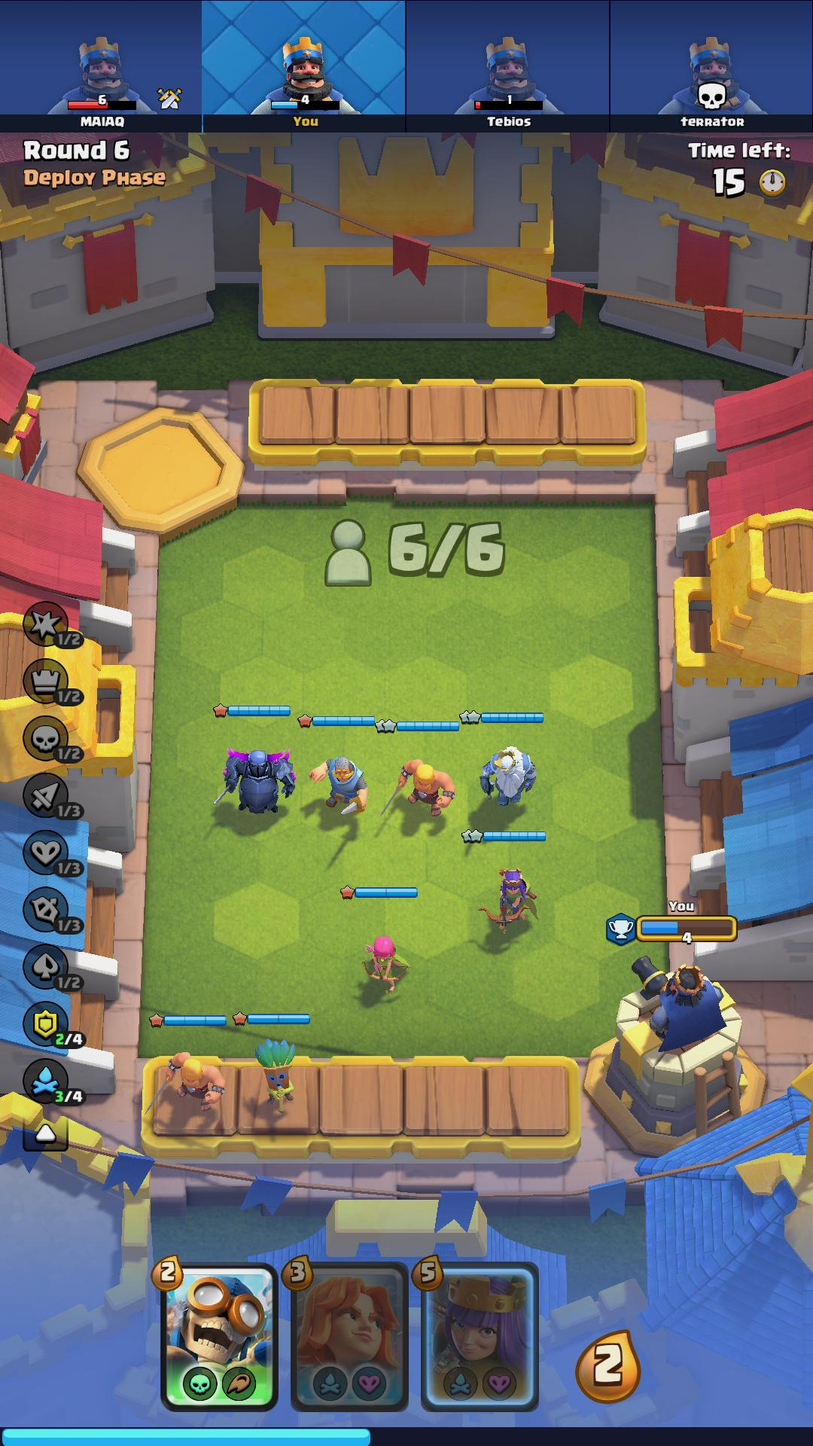archer: (360, 925, 417, 997)
barbarian: (384, 742, 462, 826), (158, 1043, 228, 1121)
dart: (246, 1033, 300, 1108)
ghost: (473, 736, 536, 812)
hand-bomber: (163, 1265, 274, 1407)
hand-queen: (429, 1270, 537, 1408)
hand-valkyrie: (290, 1261, 409, 1411)
knight: (305, 743, 373, 821)
pekka: (217, 732, 300, 822)
queen: (476, 864, 541, 941)
